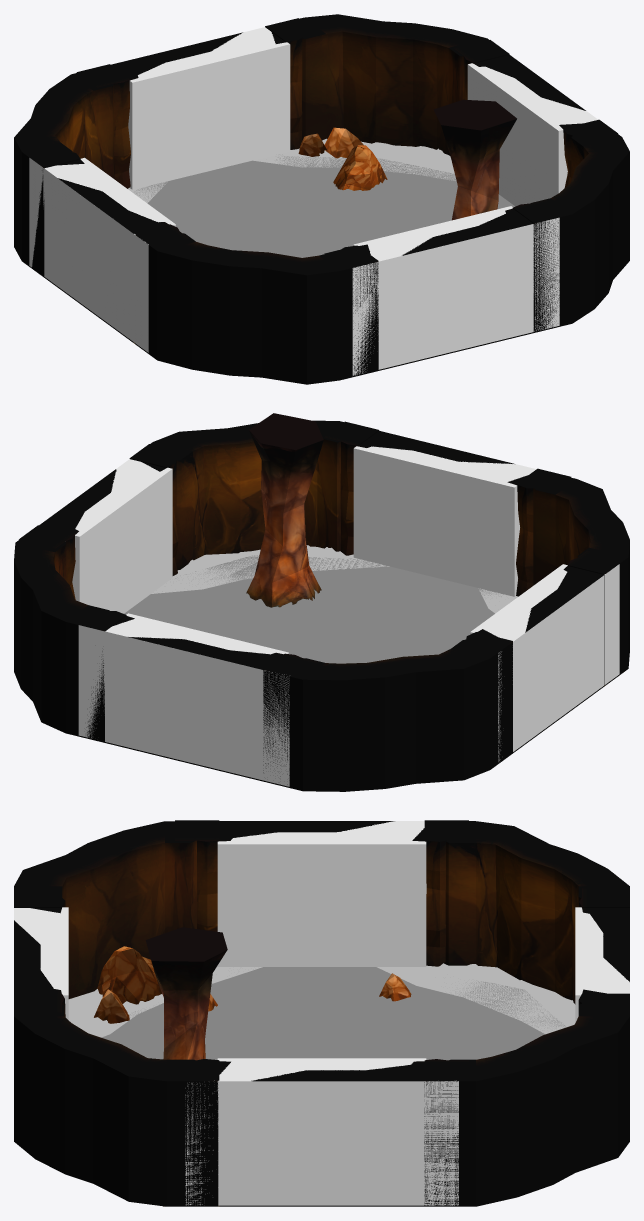
The model's file is Dungeon_062_StartRoom_001_Ev.fbx.
3 renders of one model, top to bottom at view 1: azimuth 30°, elevation 25°; view 2: azimuth 150°, elevation 25°; view 3: azimuth 270°, elevation 25°, orthographic. The views are drawn at different scales.
Parts seen in each view (by area): view 1: Dun_062_StartRoom_001_wall, DoorWay_NavMask (1) (×4), DoorWay_NavMask (3) (×3), Dun_062_StartRoom_002_Nav, Dun_062_Door_002 (×4), Dungeon_062_Object_04_Pillar, Dun_062_StartRoom_001_shadow, Dungeon_062_Object_03_Rock, DoorWay_NavMask (2) (×2), Dun_062_Object_100; view 2: Dun_062_StartRoom_001_wall, DoorWay_NavMask (1) (×4), DoorWay_NavMask (3) (×3), Dun_062_StartRoom_002_Nav, Dun_062_Door_002 (×4), Dungeon_062_Object_04_Pillar, Dun_062_StartRoom_001_shadow, DoorWay_NavMask (2) (×3); view 3: Dun_062_StartRoom_001_wall, DoorWay_NavMask (1) (×4), DoorWay_NavMask (3) (×3), Dun_062_StartRoom_002_Nav, Dun_062_Door_002 (×4), Dun_062_StartRoom_001_shadow, Dungeon_062_Object_04_Pillar, Dun_062_Object_100, DoorWay_NavMask (2) (×3), Dungeon_062_Object_01_Rock.
Part boxes in pixels (x1=…): Dun_062_StartRoom_001_wall: x1=14, y1=14, x2=629, y2=384; DoorWay_NavMask (1) (×4): x1=43, y1=27, x2=597, y2=369; DoorWay_NavMask (3) (×3): x1=29, y1=72, x2=597, y2=375; Dun_062_StartRoom_002_Nav: x1=134, y1=154, x2=514, y2=257; Dun_062_Door_002 (×4): x1=25, y1=18, x2=617, y2=370; Dungeon_062_Object_04_Pillar: x1=433, y1=99, x2=516, y2=220; Dun_062_StartRoom_001_shadow: x1=128, y1=138, x2=456, y2=203; Dungeon_062_Object_03_Rock: x1=333, y1=145, x2=387, y2=190; DoorWay_NavMask (2) (×2): x1=225, y1=33, x2=417, y2=255; Dun_062_Object_100: x1=298, y1=127, x2=363, y2=158; Dun_062_StartRoom_001_wall: x1=14, y1=420, x2=629, y2=791; DoorWay_NavMask (1) (×4): x1=72, y1=446, x2=605, y2=775; DoorWay_NavMask (3) (×3): x1=78, y1=449, x2=619, y2=786; Dun_062_StartRoom_002_Nav: x1=124, y1=555, x2=503, y2=663; Dun_062_Door_002 (×4): x1=19, y1=421, x2=623, y2=781; Dungeon_062_Object_04_Pillar: x1=246, y1=413, x2=323, y2=607; Dun_062_StartRoom_001_shadow: x1=151, y1=545, x2=517, y2=613; DoorWay_NavMask (2) (×3): x1=113, y1=462, x2=528, y2=637; Dun_062_StartRoom_001_wall: x1=14, y1=821, x2=629, y2=1206; DoorWay_NavMask (1) (×4): x1=14, y1=821, x2=629, y2=1205; DoorWay_NavMask (3) (×3): x1=185, y1=821, x2=629, y2=1205; Dun_062_StartRoom_002_Nav: x1=101, y1=967, x2=565, y2=1060; Dun_062_Door_002 (×4): x1=14, y1=820, x2=629, y2=1206; Dun_062_StartRoom_001_shadow: x1=68, y1=963, x2=575, y2=1037; Dungeon_062_Object_04_Pillar: x1=145, y1=927, x2=227, y2=1060; Dun_062_Object_100: x1=94, y1=946, x2=161, y2=1023; DoorWay_NavMask (2) (×3): x1=219, y1=823, x2=623, y2=1078; Dungeon_062_Object_01_Rock: x1=379, y1=973, x2=411, y2=1001.
Size of the model in its own units: 9.04 by 2.96 by 9.
